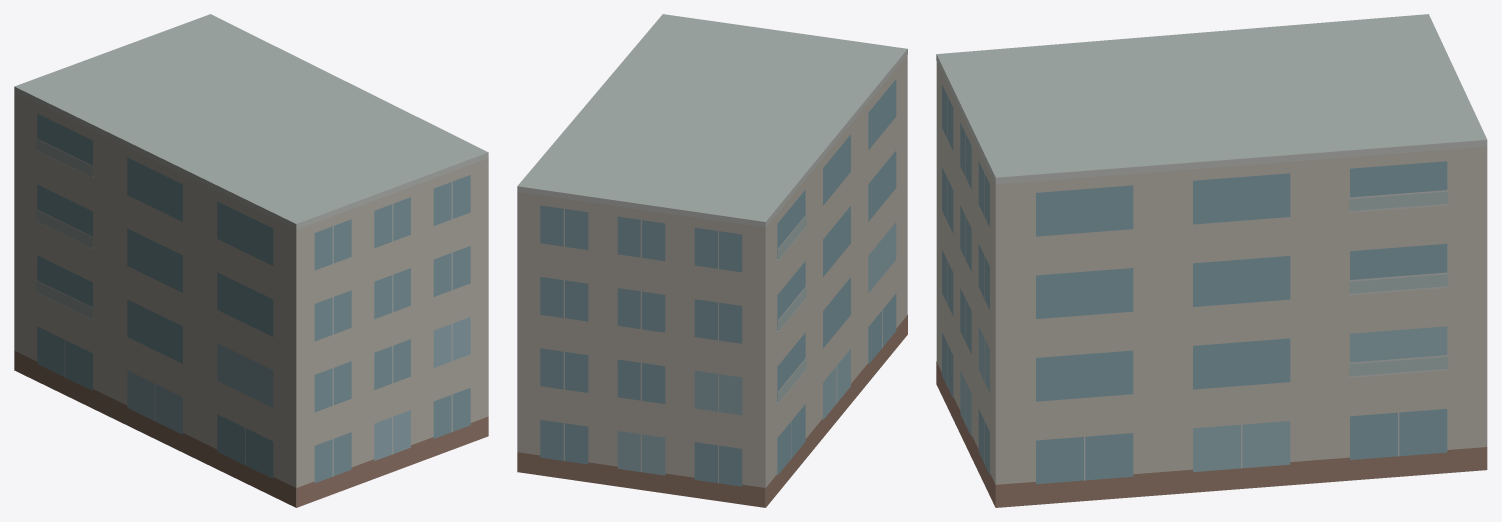
Rendered from survey-upis-32697698.glb.
The picture shows the model from 3 angles, left to right: view 1: azimuth 30°, elevation 25°; view 2: azimuth 150°, elevation 25°; view 3: azimuth 270°, elevation 25°; orthographic projection. The views are drawn at different scales.
Parts seen in each view (by area): view 1: survey-upis-32697698.tmp; view 2: survey-upis-32697698.tmp; view 3: survey-upis-32697698.tmp.
Part boxes in pixels (left/top/right/bottom): survey-upis-32697698.tmp: left=14, top=14, right=488, bottom=507; survey-upis-32697698.tmp: left=517, top=14, right=907, bottom=507; survey-upis-32697698.tmp: left=936, top=14, right=1487, bottom=507.
Bounding box in the file's own units: 12.98 × 12.2 × 18.46.
